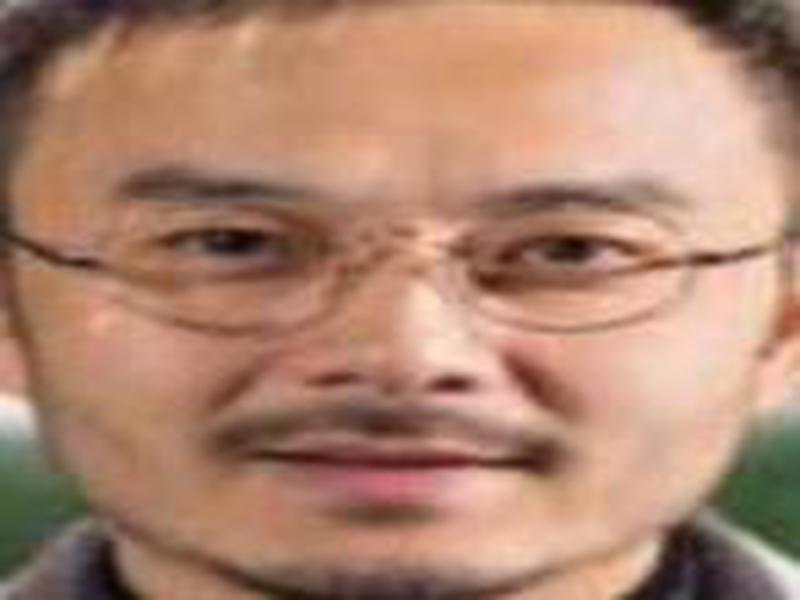without_mask: (25, 33, 763, 584)
